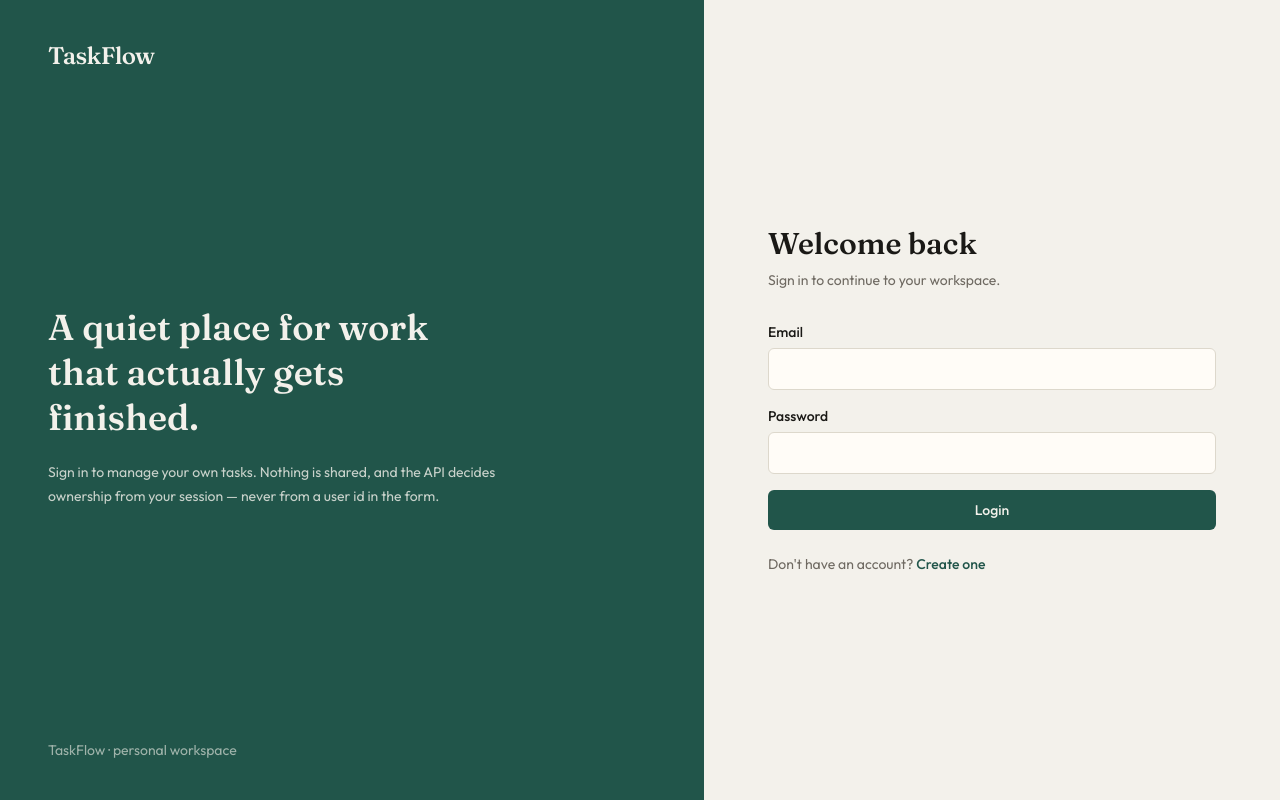
LoginPage › validates required fields before submitting
This screenshot has width=1280, height=800.
Click the button "Login": (992, 510) [768,490,1216,530]
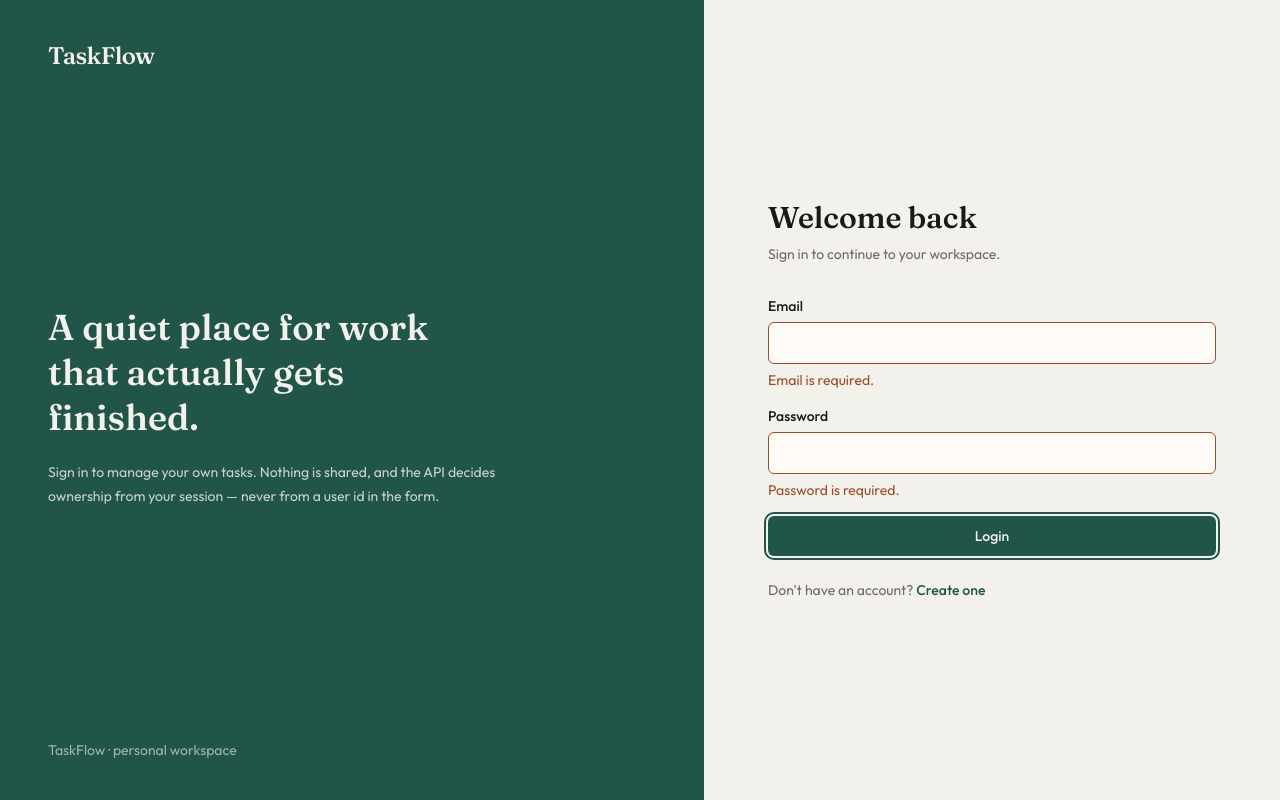
Expected: the text "Email is required." is shown, [768,371,874,389]
Expected: the text "Password is required." is shown, [768,481,900,499]
